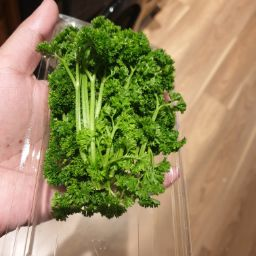Parsley: (29, 14, 189, 240), (46, 31, 123, 214), (90, 25, 170, 95), (127, 86, 174, 189)
